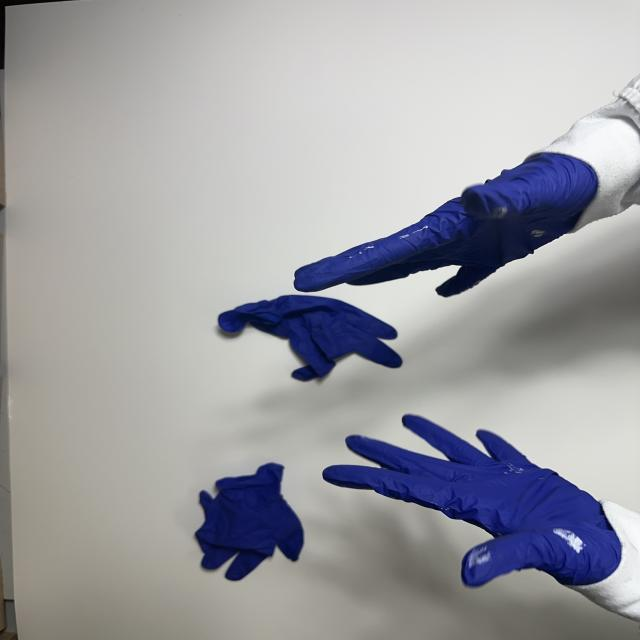gloves_contaminated: (323, 415, 621, 586), (294, 153, 599, 296)
